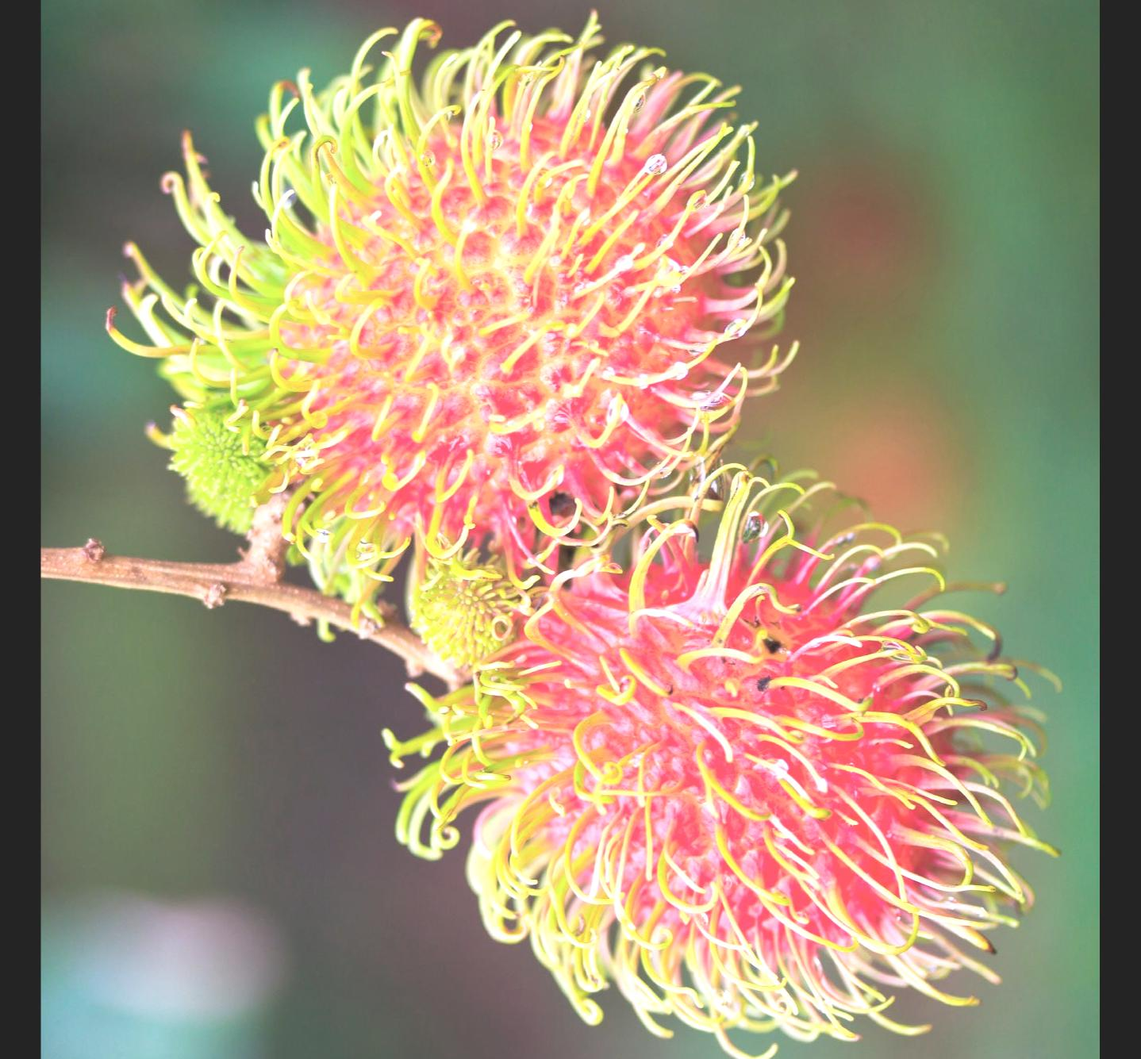chom_chom: (422, 502, 1015, 1007), (216, 82, 746, 551)
